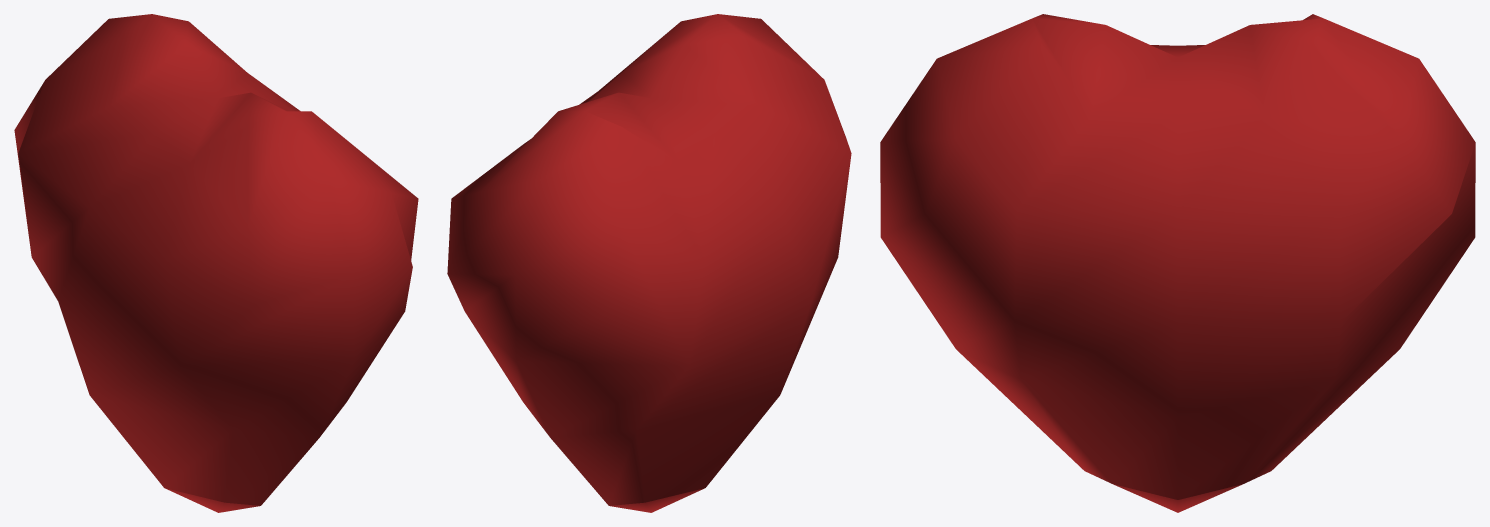
The model's file is FBX_BALL_HEART.fbx.
3 renders of one model, left to right at view 1: azimuth 30°, elevation 25°; view 2: azimuth 150°, elevation 25°; view 3: azimuth 270°, elevation 25°, orthographic. The views are drawn at different scales.
Parts seen in each view (by area): view 1: HEARTBALL; view 2: HEARTBALL; view 3: HEARTBALL.
Part boxes in pixels (x1,y1,x2,y2): HEARTBALL: [14, 14, 418, 512]; HEARTBALL: [447, 14, 851, 512]; HEARTBALL: [880, 14, 1475, 512].
Bounding box in the file's own units: 8.21 × 11.02 × 12.02.
